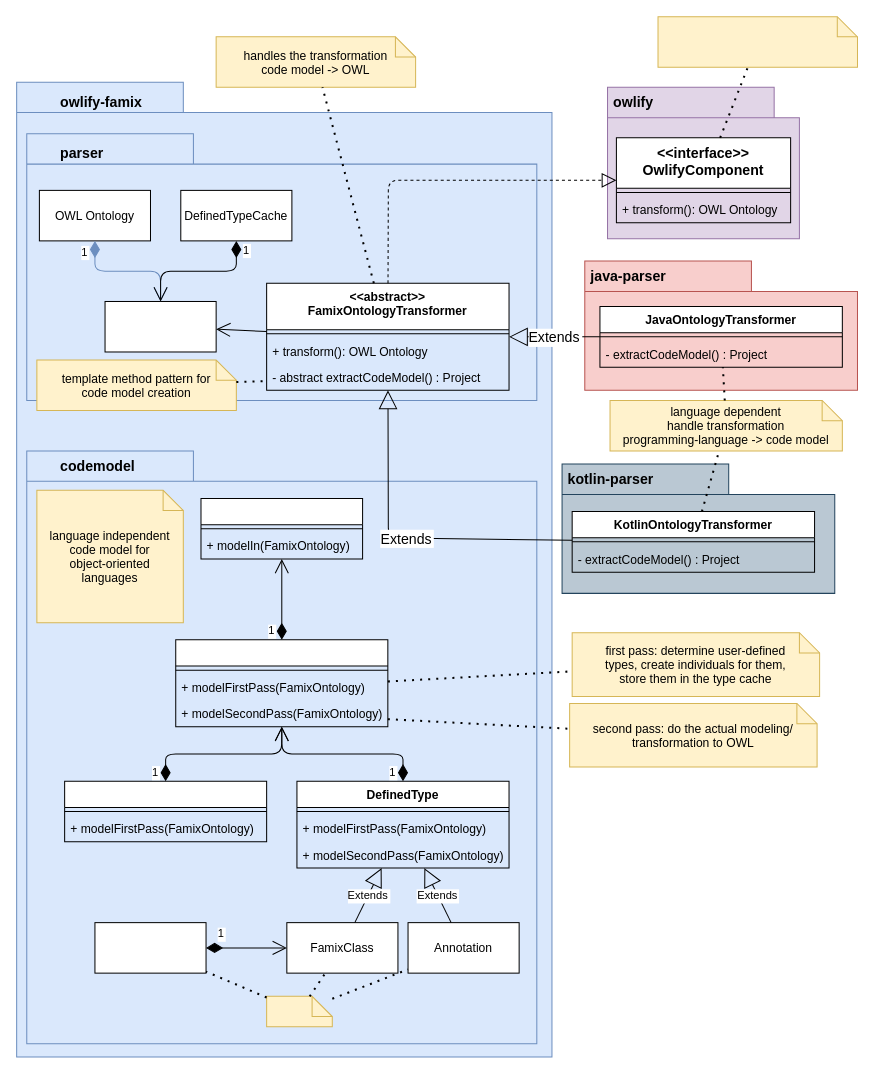
Some shapes in this 874 by 1074 pixel diagram are drawn without their labels. Each missing label, with the box of its shape:
common interface used by all input parsers: (657, 16, 857, 67)
etc.: (266, 995, 332, 1027)
FamixOntology: (104, 300, 216, 352)
Method: (94, 922, 206, 973)
Namespace: (64, 780, 267, 842)
Project: (200, 497, 363, 559)
SourceFile: (175, 639, 388, 727)
